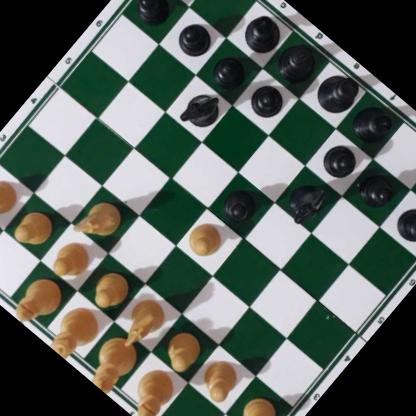black-bishop: (346, 94, 402, 150), (238, 6, 289, 58)
black-king: (308, 64, 365, 122)
black-knight: (280, 172, 335, 228), (178, 84, 227, 134)
black-pawn: (217, 180, 266, 230), (317, 136, 365, 184), (355, 166, 402, 214), (244, 76, 291, 123), (207, 48, 253, 94), (172, 15, 218, 61), (131, 0, 177, 29), (391, 199, 416, 250)
black-queen: (273, 33, 327, 87)
white-bishop: (7, 271, 70, 336), (121, 362, 181, 416)
white-king: (81, 327, 146, 395)
white-knight: (110, 291, 174, 357), (72, 190, 129, 249)
white-pawn: (194, 351, 248, 405), (46, 235, 97, 286), (159, 324, 209, 375), (85, 264, 135, 314), (10, 202, 60, 251), (182, 215, 229, 262), (234, 388, 287, 416), (0, 169, 25, 223)
white-queen: (43, 298, 107, 365)
